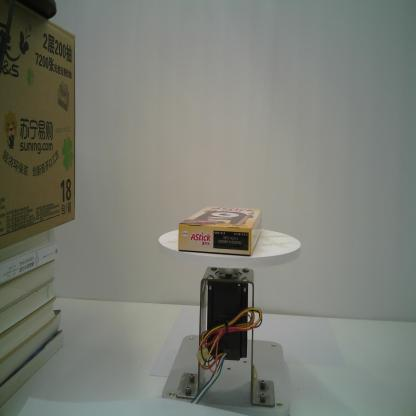Dessert: (178, 206, 262, 256)
